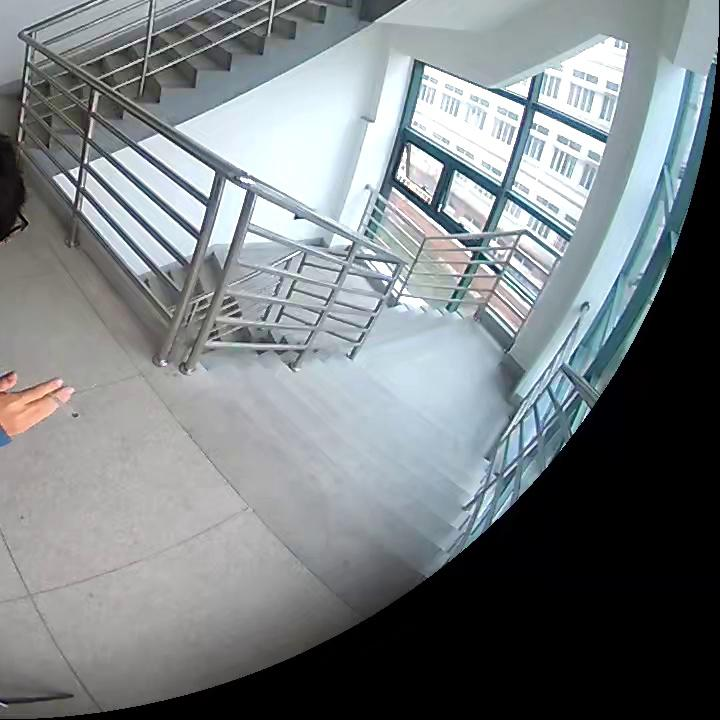handsmoke: (1, 369, 80, 435)
